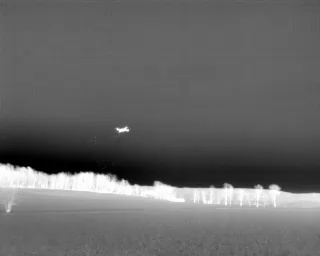DRONE: (111, 121, 135, 139)
